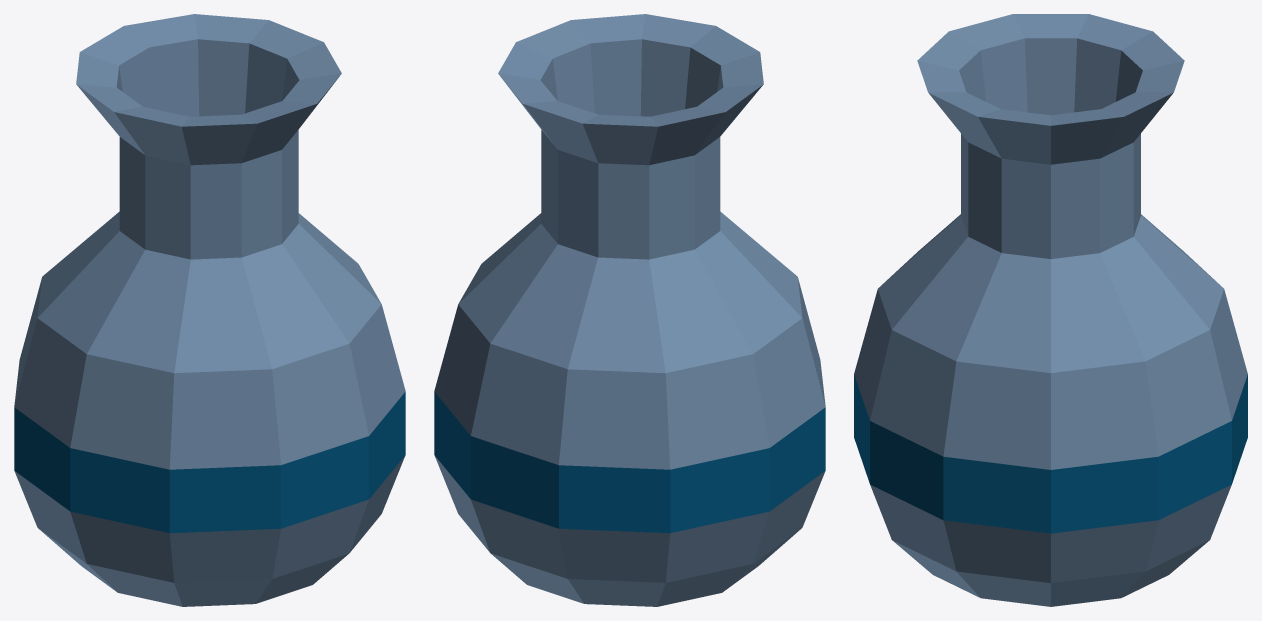
Rendered from Vase.fbx.
3 renders of one model, left to right at view 1: azimuth 30°, elevation 25°; view 2: azimuth 150°, elevation 25°; view 3: azimuth 270°, elevation 25°, orthographic.
Visible parts, largest first — view 1: pSphere2; view 2: pSphere2; view 3: pSphere2.
Boxes of the visible parts, x1,y1,x2,y2 form: pSphere2: (14,14,405,606); pSphere2: (434,14,825,606); pSphere2: (854,14,1247,606).
Bounding box in the file's own units: 0.0645 × 0.0897 × 0.0651.
